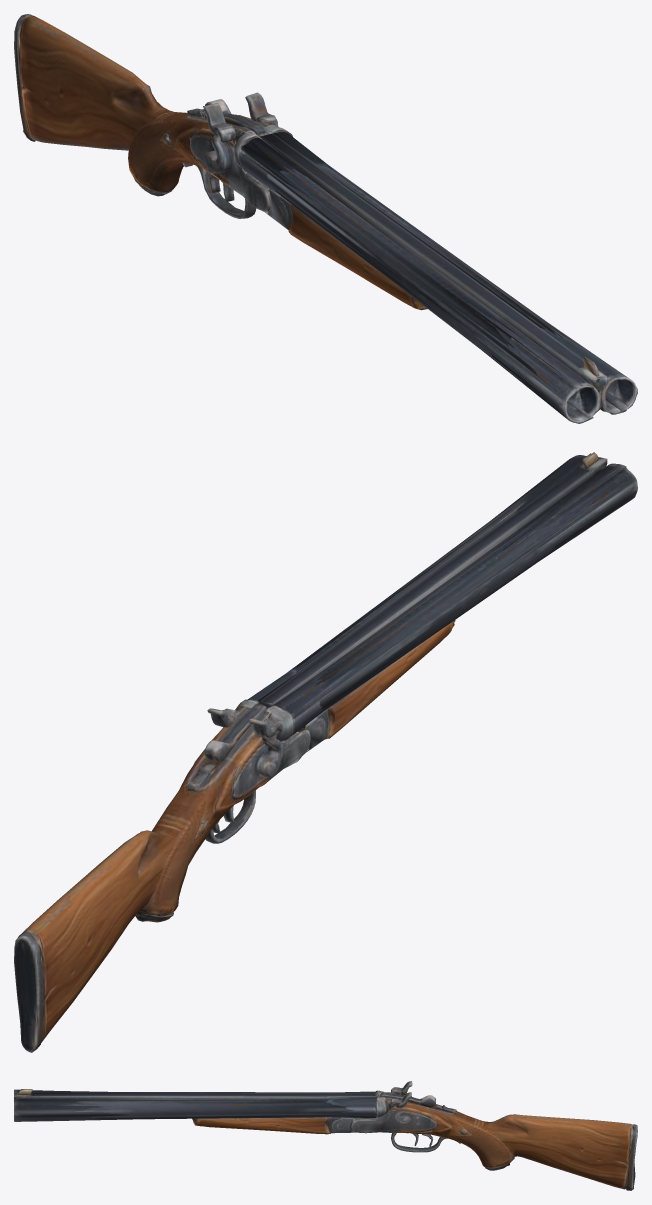
Rendered from double_barrel.glb.
3 views of the same model, one above another, from view 1: azimuth 30°, elevation 25°; view 2: azimuth 150°, elevation 25°; view 3: azimuth 270°, elevation 25° (orthographic). The views are drawn at different scales.
Visible parts, largest first — view 1: w_double_barrel; view 2: w_double_barrel; view 3: w_double_barrel.
Boxes of the visible parts, <box> form: w_double_barrel: <box>14,14,637,423</box>; w_double_barrel: <box>14,452,637,1052</box>; w_double_barrel: <box>14,1081,637,1190</box>.
Size of the model in its own units: 0.0647 by 0.1588 by 0.88.
1 material, 1 textured.
